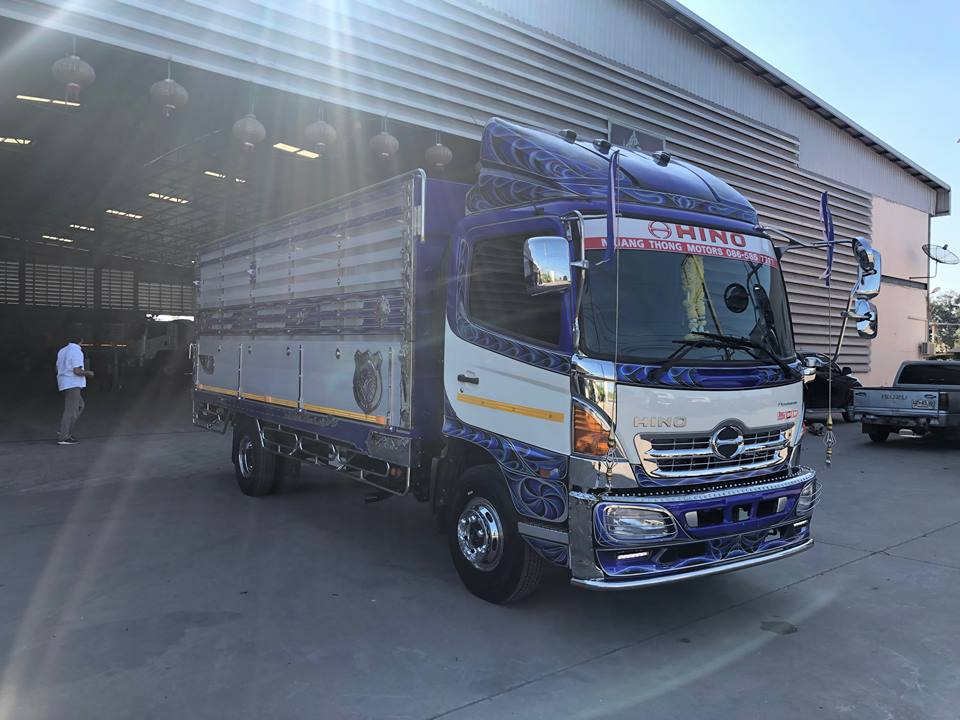truck: (430, 152, 818, 622)
